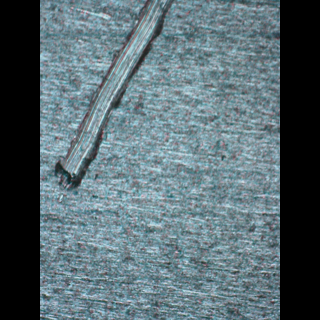d: (53, 0, 176, 191)
